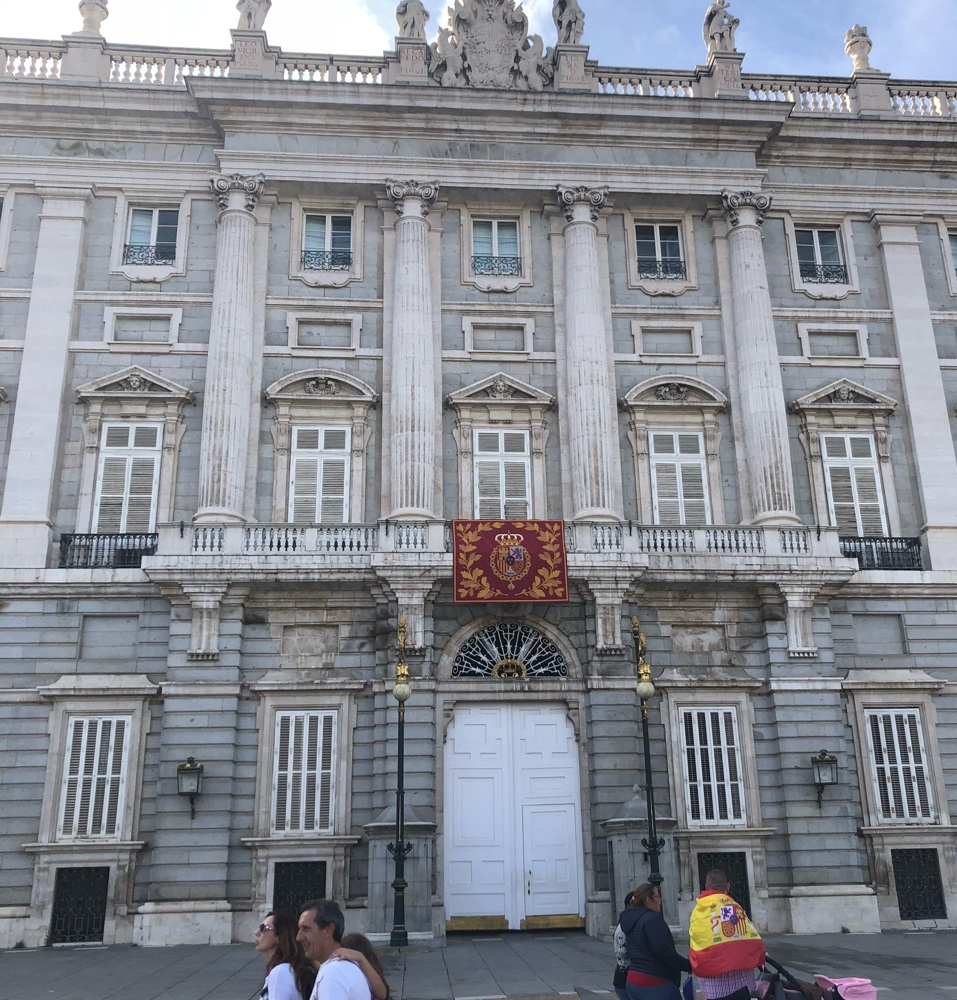fronton: (446, 369, 560, 412), (74, 362, 192, 403), (791, 378, 902, 412)
fronton-curvo: (264, 365, 382, 408), (617, 371, 731, 413)
vano-adintelado: (425, 682, 605, 932), (241, 681, 364, 842), (32, 685, 145, 842), (657, 676, 771, 830), (847, 681, 957, 835), (73, 417, 188, 536), (798, 423, 909, 539), (268, 418, 370, 525), (624, 421, 727, 523), (453, 422, 551, 519)
